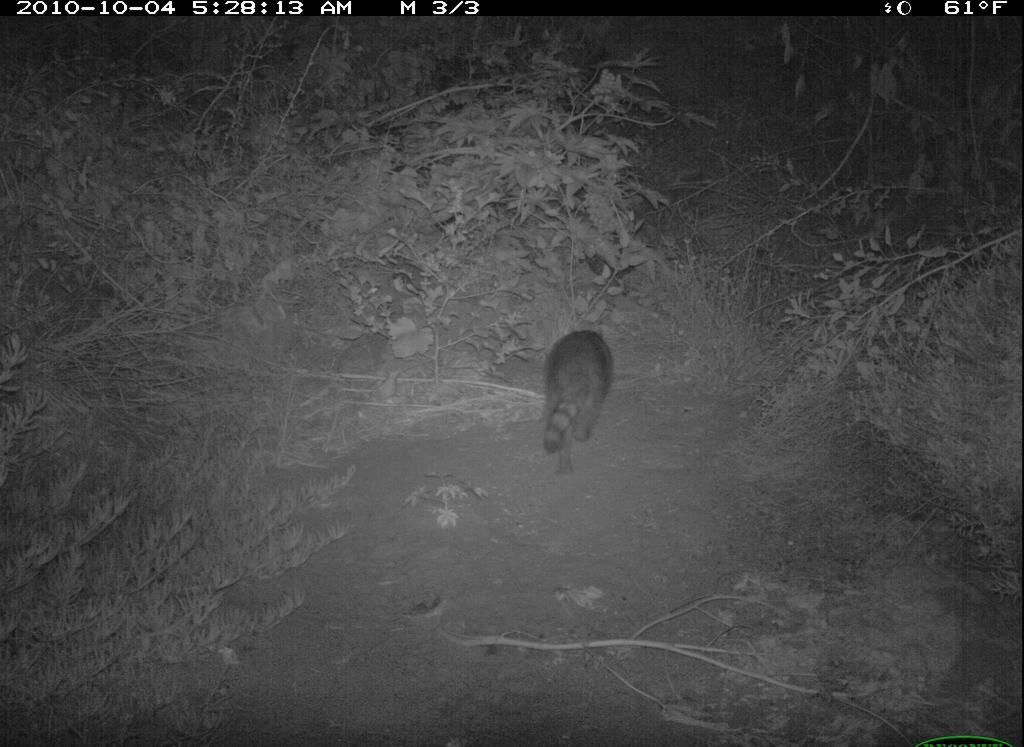raccoon: (530, 318, 621, 482)
